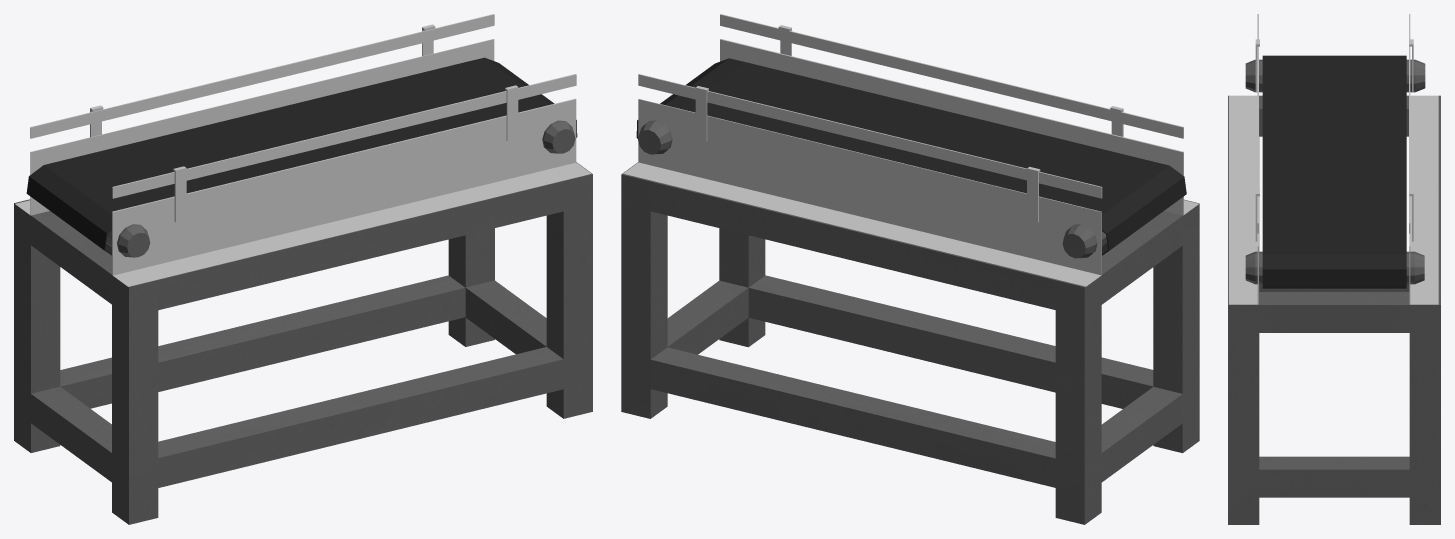
File: SM_3D_ConveyerBelt2.fbx
3 views of the same model, side by side, from view 1: azimuth 30°, elevation 25°; view 2: azimuth 150°, elevation 25°; view 3: azimuth 270°, elevation 25° (orthographic). The views are drawn at different scales.
Parts seen in each view (by area): view 1: Plane.006, Plane.003, Cylinder.005, Plane.015, Cylinder.002, Cylinder.003; view 2: Plane.006, Plane.015, Cylinder.005, Plane.003, Cylinder.002, Cylinder.003; view 3: Cylinder.005, Plane.006, Plane.003, Plane.015, Cylinder.003, Cylinder.002.
Boxes of the visible parts, x1,y1,x2,y2 form: Plane.006: (14,162,592,524); Plane.003: (112,74,591,286); Cylinder.005: (26,57,577,255); Plane.015: (15,14,494,215); Cylinder.002: (106,224,150,257); Cylinder.003: (542,120,575,153); Plane.006: (621,162,1199,524); Plane.015: (623,74,1102,286); Cylinder.005: (636,58,1186,255); Plane.003: (720,14,1198,215); Cylinder.002: (1062,224,1107,258); Cylinder.003: (638,120,672,154); Cylinder.005: (1262,55,1406,288); Plane.006: (1228,95,1440,524); Plane.003: (1229,14,1259,304); Plane.015: (1409,14,1438,304); Cylinder.003: (1245,251,1424,284); Cylinder.002: (1245,59,1425,92).
Bounding box in the file's own units: 1490 × 989 × 628.
